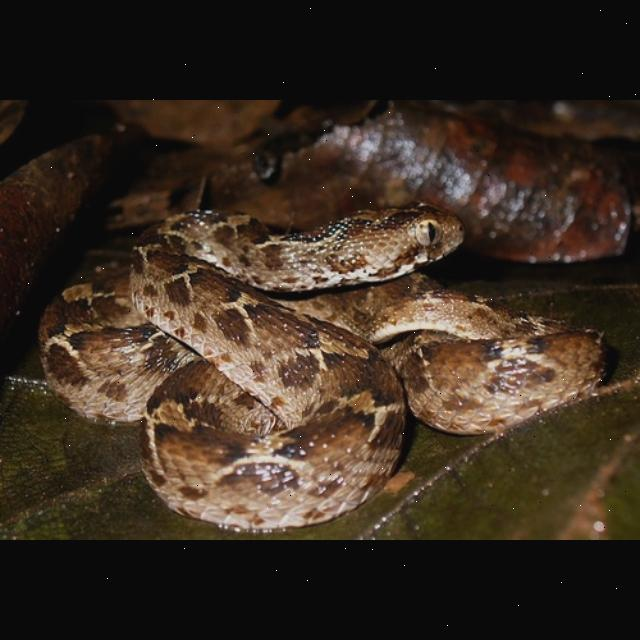snake: (34, 206, 624, 528)
